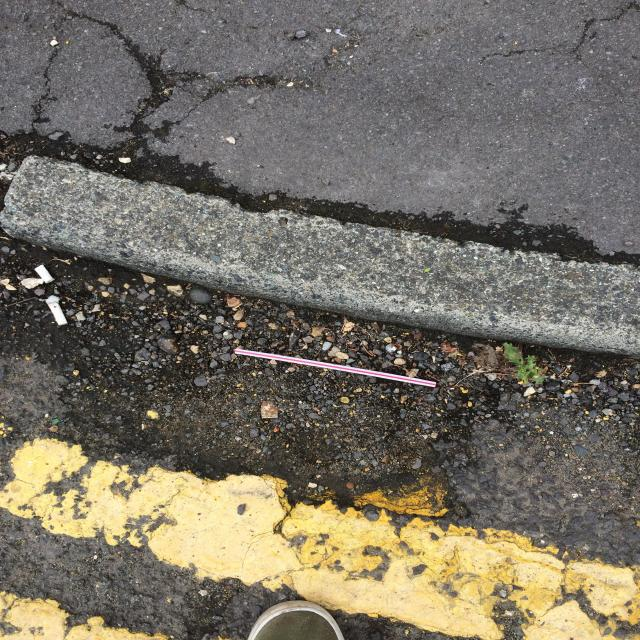Cigarette: (44, 296, 67, 326), (34, 264, 54, 284)
Plastic straw: (235, 348, 436, 387)
